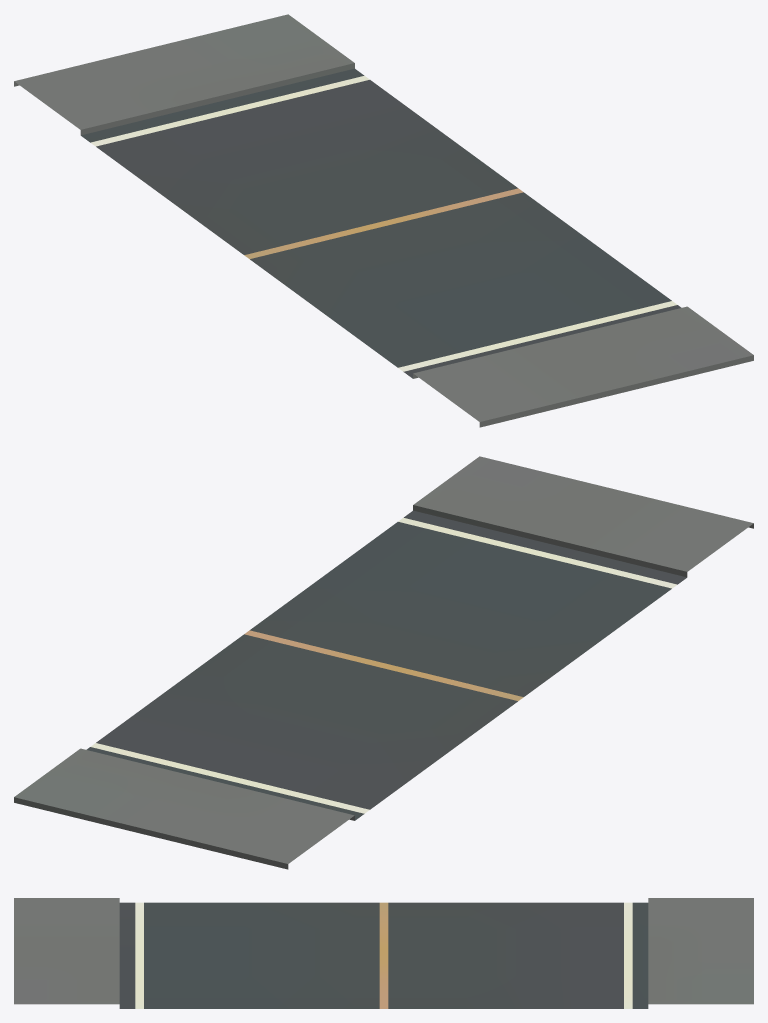
File: city_road_2.glb
3 renders of one model, top to bottom at view 1: azimuth 30°, elevation 25°; view 2: azimuth 150°, elevation 25°; view 3: azimuth 270°, elevation 25°, orthographic. The views are drawn at different scales.
Parts seen in each view (by area): view 1: Road_2; view 2: Road_2; view 3: Road_2.
Part boxes in pixels (x1,y1,x2,y2): Road_2: (14, 14, 753, 427); Road_2: (14, 456, 753, 869); Road_2: (14, 898, 753, 1008).
Bounding box in the file's own units: 2.04 × 0.0396 × 6.
Materials: 1 (1 with a texture image).
